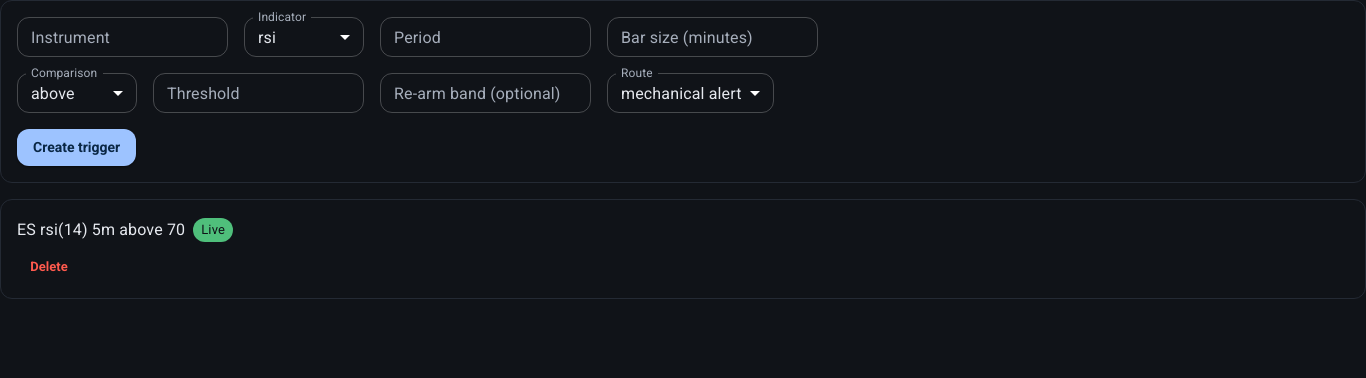
Scenario: TriggersSurface › deleting removes the row
Click the button "Delete " at (49, 267), box [17,252,81,282]
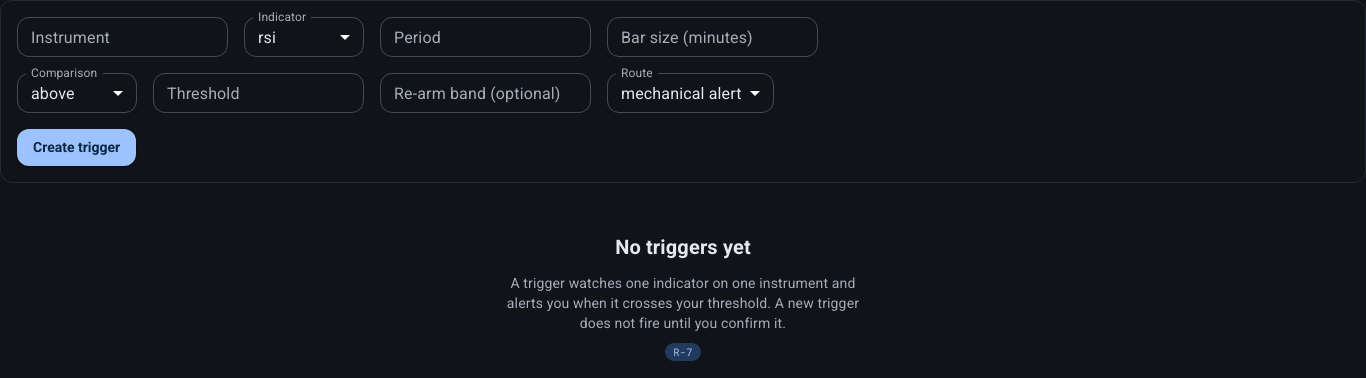
Expected: the element with test id "trigger-row" is gone
